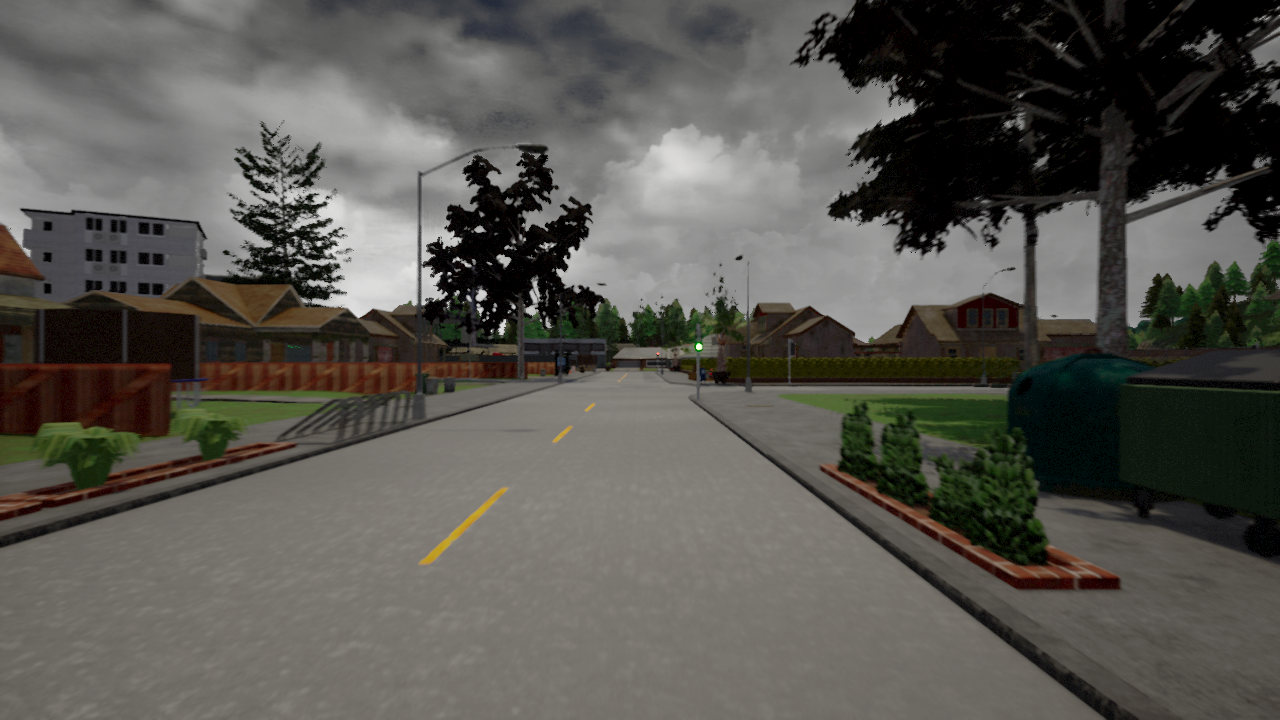green: (694, 328, 704, 351)
